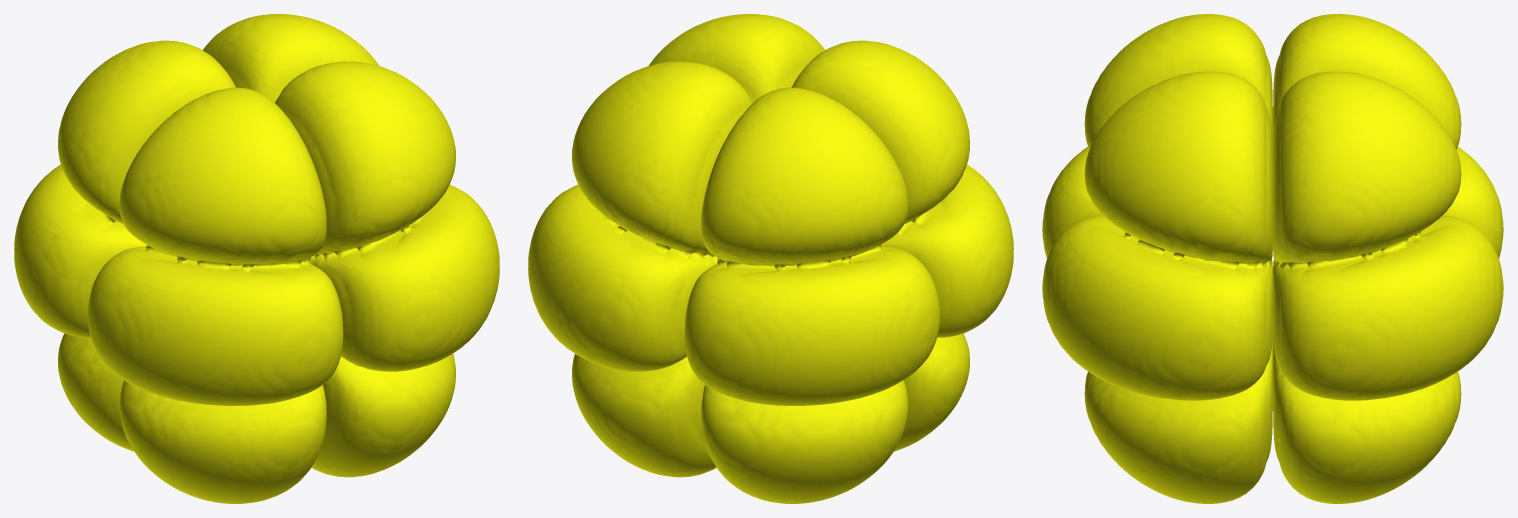
File: orb_n=7_ l=4 _m=-2.fbx
3 renders of one model, left to right at view 1: azimuth 30°, elevation 25°; view 2: azimuth 150°, elevation 25°; view 3: azimuth 270°, elevation 25°, orthographic. The views are drawn at different scales.
Visible parts, largest first — view 1: orb_n=7_ l=4 _m=-2; view 2: orb_n=7_ l=4 _m=-2; view 3: orb_n=7_ l=4 _m=-2.
Part boxes in pixels (bbox=[...]): orb_n=7_ l=4 _m=-2: bbox=[14, 14, 499, 503]; orb_n=7_ l=4 _m=-2: bbox=[528, 14, 1013, 503]; orb_n=7_ l=4 _m=-2: bbox=[1042, 14, 1503, 503].
Size of the model in its own units: 22789 by 22597 by 22789.
